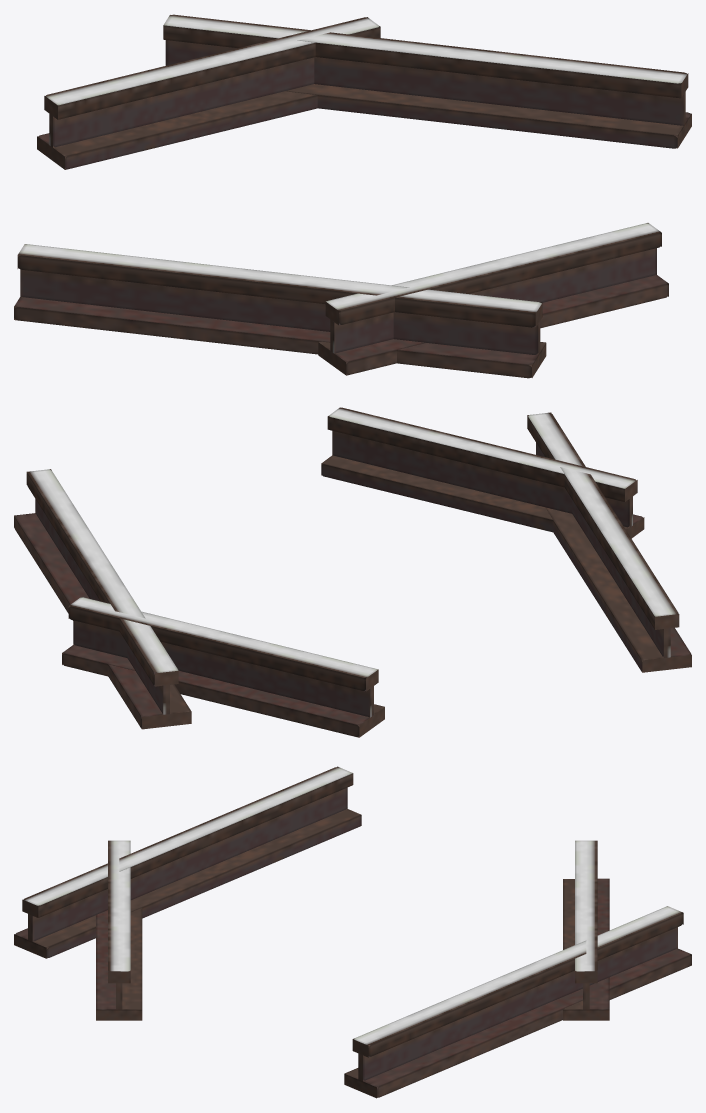
File: cross_d1_xo.obj
3 renders of one model, top to bottom at view 1: azimuth 30°, elevation 25°; view 2: azimuth 150°, elevation 25°; view 3: azimuth 270°, elevation 25°, orthographic. The views are drawn at different scales.
Visible parts, largest first — view 1: cube; view 2: cube; view 3: cube.
Part boxes in pixels (x1,y1,x2,y2): cube: (14, 14, 691, 378); cube: (14, 407, 691, 737); cube: (14, 766, 691, 1098).
Size of the model in its own units: 2.19 by 0.1759 by 2.19.
